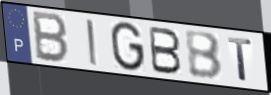B: (183, 30, 224, 82), (32, 9, 70, 65), (148, 25, 184, 77)
G: (109, 20, 146, 73)
I: (85, 17, 101, 68)
T: (226, 35, 255, 84)
